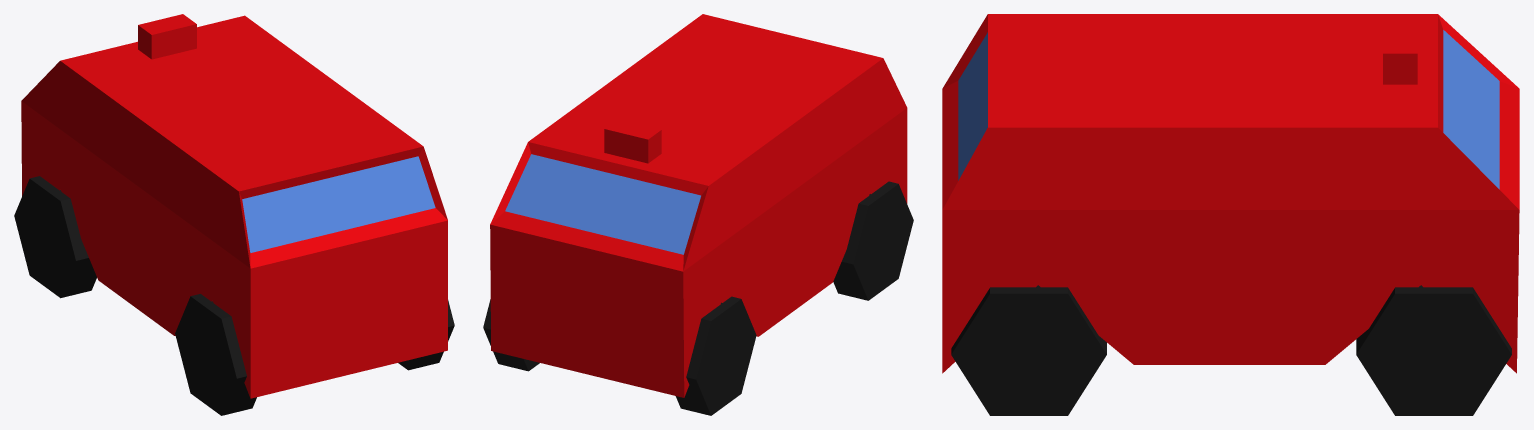
File: Test Car.fbx
The picture shows the model from 3 angles, left to right: view 1: azimuth 30°, elevation 25°; view 2: azimuth 150°, elevation 25°; view 3: azimuth 270°, elevation 25°; orthographic projection. The views are drawn at different scales.
Visible parts, largest first — view 1: Test Car; view 2: Test Car; view 3: Test Car.
Part boxes in pixels (x1,y1,x2,y2): Test Car: (14, 14, 454, 415); Test Car: (483, 14, 913, 415); Test Car: (942, 14, 1519, 415).
Bounding box in the file's own units: 33.08 × 35.63 × 60.27.
